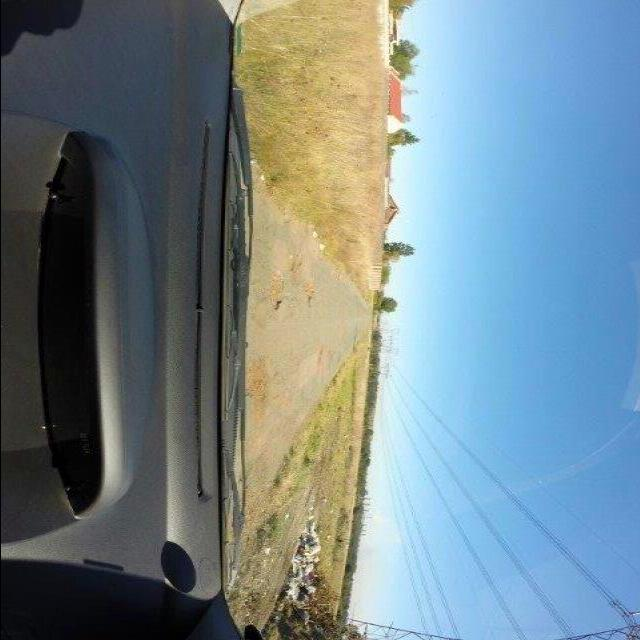lubang: (248, 354, 272, 408), (296, 275, 323, 309), (267, 272, 285, 314), (285, 247, 309, 274)
